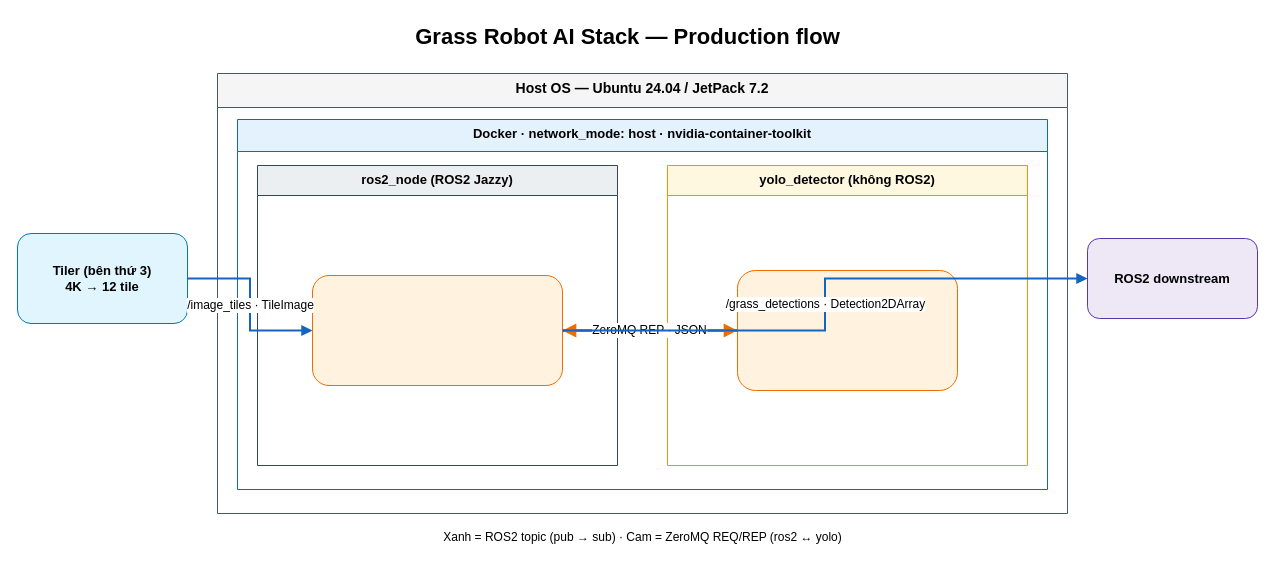
Some shapes in this 1275 by 570 pixel diagram are drawn without their labels. Here are the shapes that lost their labels. From the top down, the centre of each, then its label:
At point (437, 330): "yolo_bridge LOCAL→GLOBAL + gom image_id".
At point (847, 330): "yolo_server · YOLO (GPU) ZeroMQ REP :5555".
